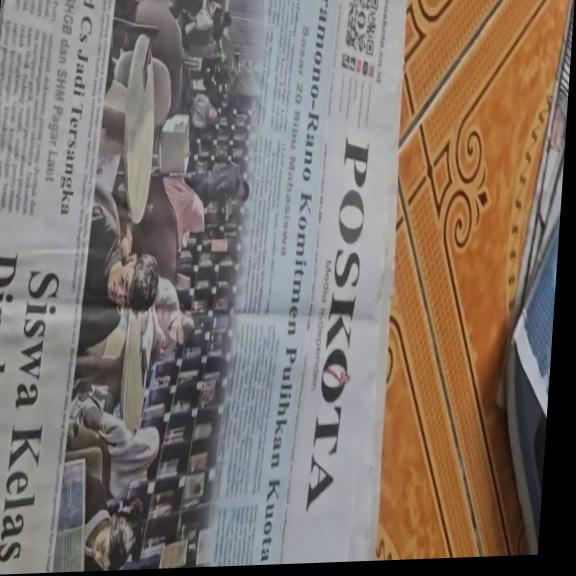Kertas: (0, 0, 405, 568)
